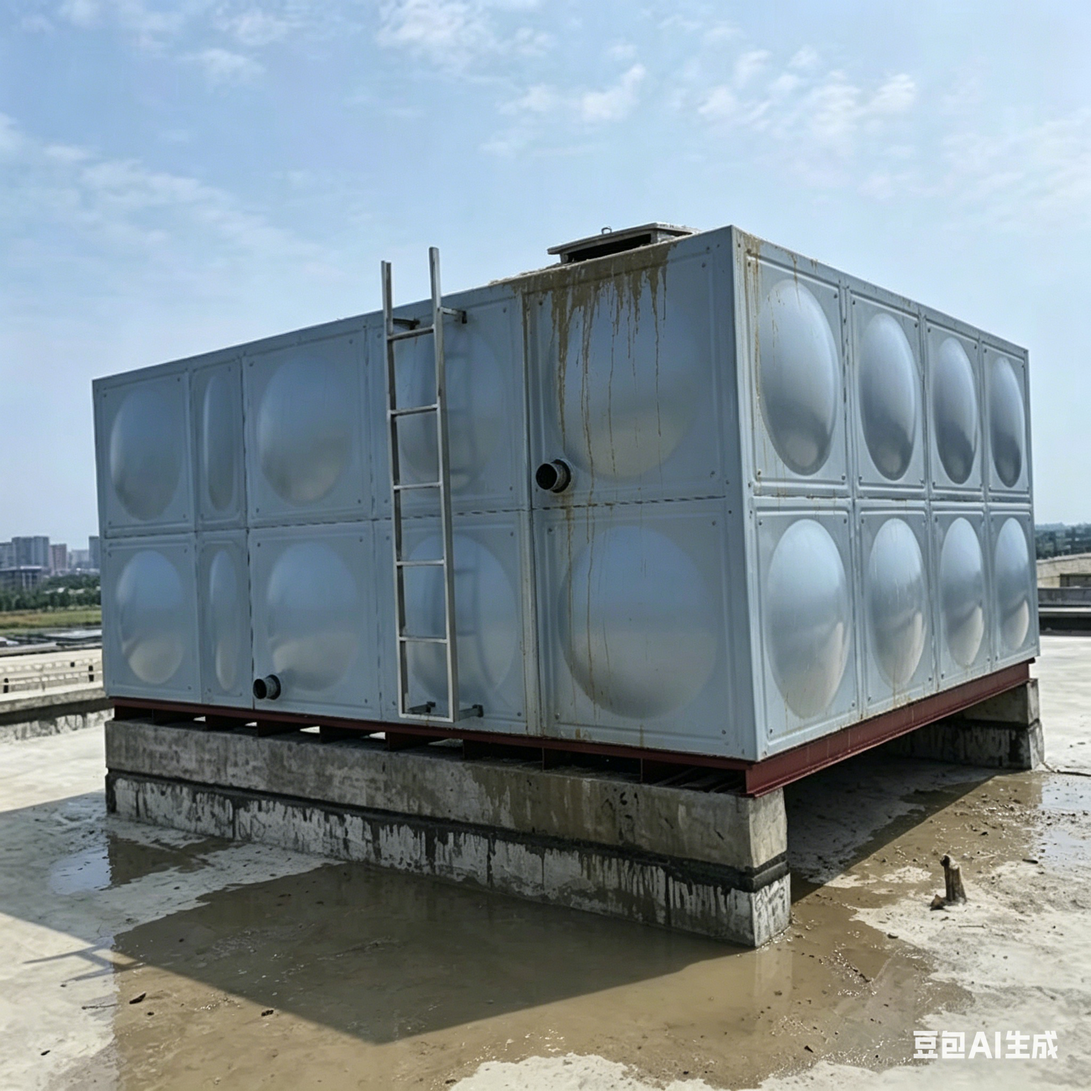Leakage: (128, 915, 941, 1085), (511, 233, 700, 427), (894, 774, 1091, 882), (289, 872, 543, 911), (48, 838, 219, 882)
